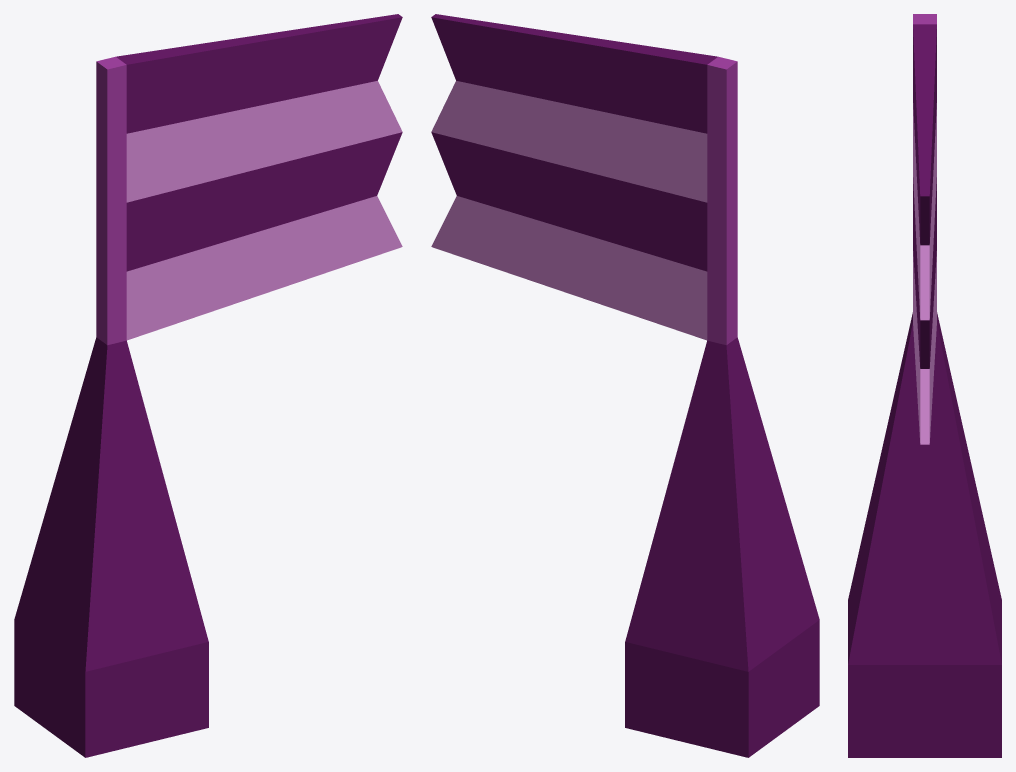
File: Goal_0.fbx
The picture shows the model from 3 angles, left to right: view 1: azimuth 30°, elevation 25°; view 2: azimuth 150°, elevation 25°; view 3: azimuth 270°, elevation 25°; orthographic projection. The views are drawn at different scales.
Visible parts, largest first — view 1: Obstacle_0.001; view 2: Obstacle_0.001; view 3: Obstacle_0.001.
Part boxes in pixels (<box>): Obstacle_0.001: <box>14,14,402,757</box>; Obstacle_0.001: <box>431,14,819,757</box>; Obstacle_0.001: <box>848,14,1001,757</box>.
Size of the model in its own units: 0.9941 by 0.3497 by 1.77.
